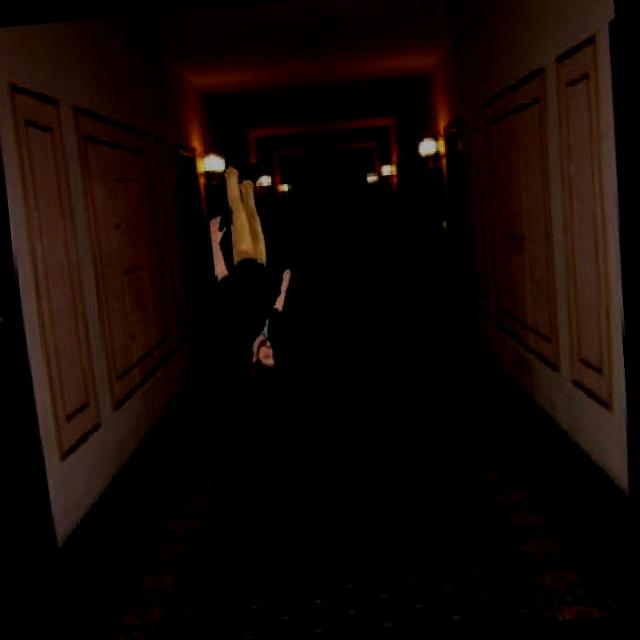Person: (199, 140, 308, 394)
